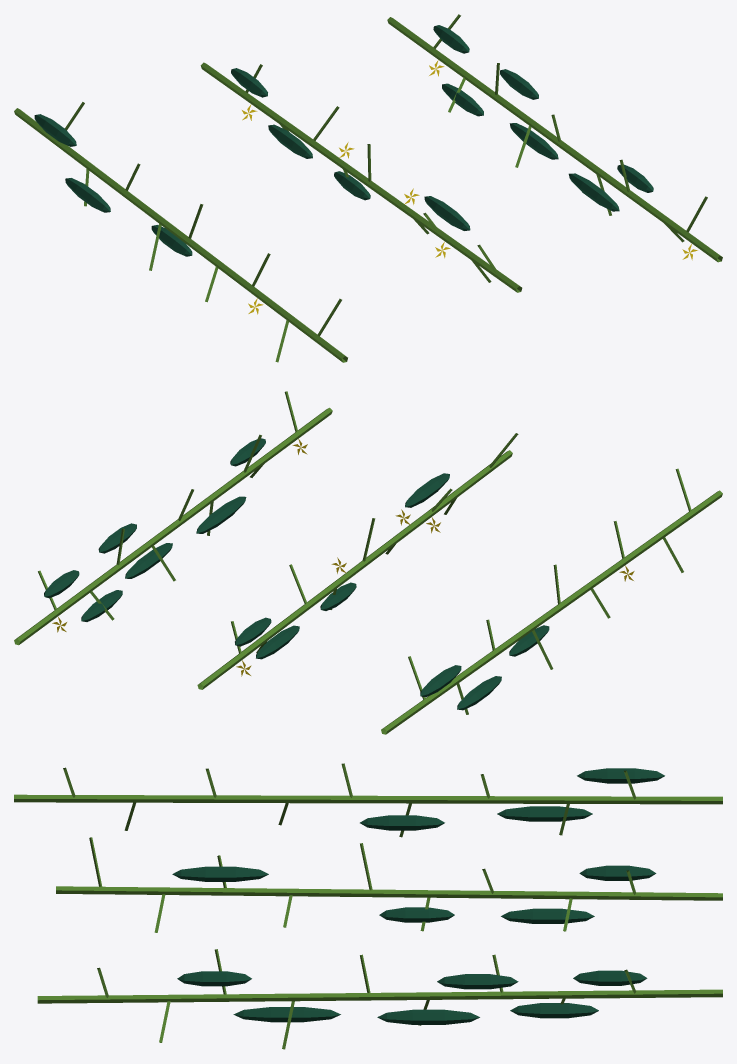
The model's file is r4c3_stems.obj.
3 renders of one model, top to bottom at view 1: azimuth 30°, elevation 25°; view 2: azimuth 150°, elevation 25°; view 3: azimuth 270°, elevation 25°, orthographic. The views are drawn at different scales.
Parts seen in each view (by area): view 1: r4c3_stems; view 2: r4c3_stems; view 3: r4c3_stems.
Boxes of the visible parts, x1=… form: r4c3_stems: x1=14, y1=14, x2=722, y2=362; r4c3_stems: x1=14, y1=391, x2=722, y2=734; r4c3_stems: x1=14, y1=763, x2=722, y2=1049.
Bounding box in the file's own units: 1.42 × 0.3025 × 1.94.
